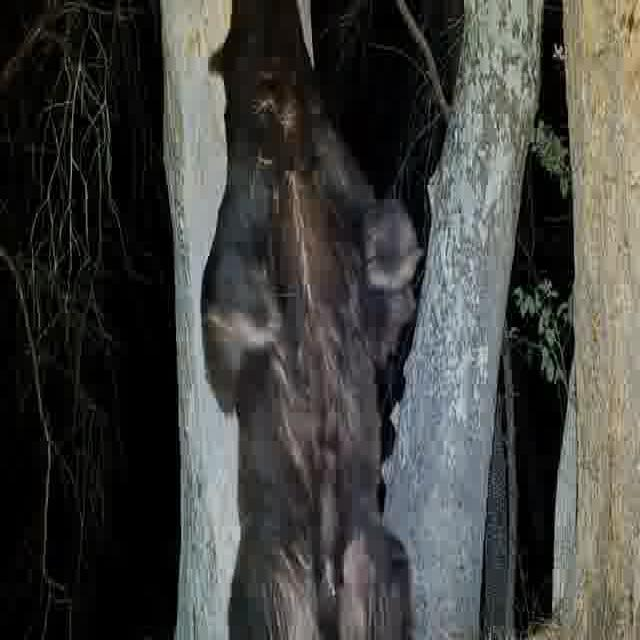bear face: (200, 0, 417, 640)
